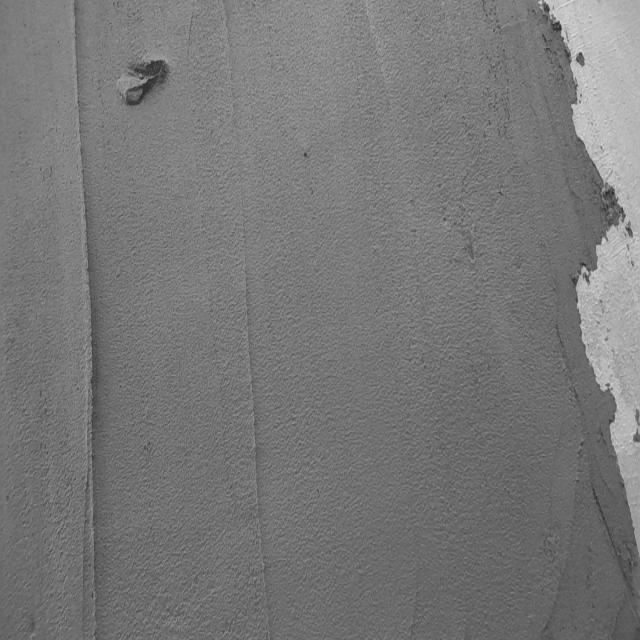trowels marks: (236, 165, 280, 640), (70, 7, 94, 640)
